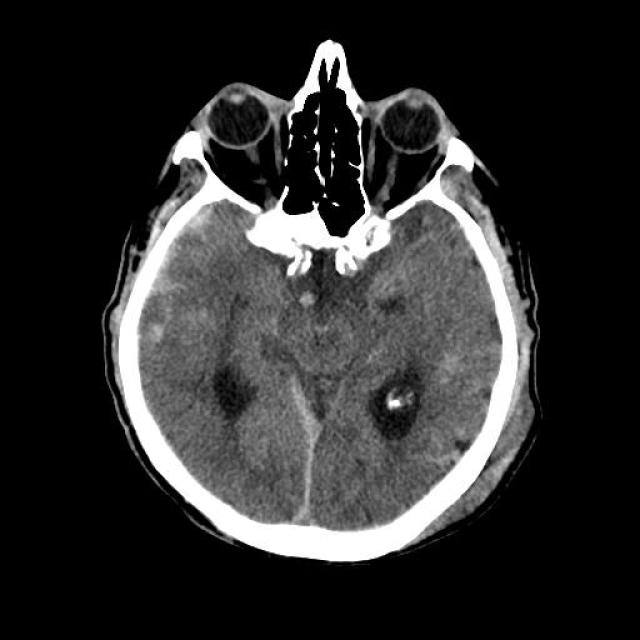Subarachnoid: (109, 201, 230, 341)
Subdural: (268, 376, 348, 550)
